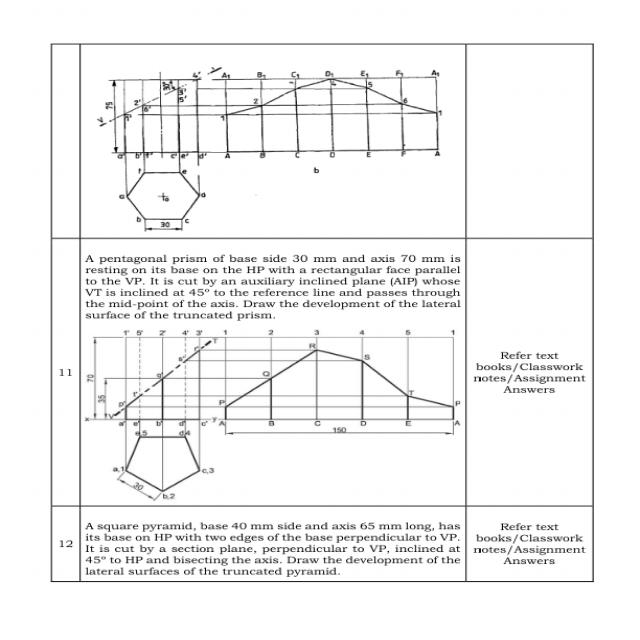Drawings: (82, 323, 464, 503), (90, 58, 454, 232)
